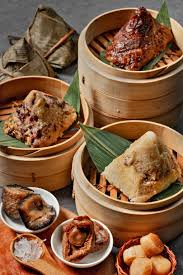zongzi: (104, 131, 179, 201), (107, 7, 172, 70), (5, 90, 76, 147)
